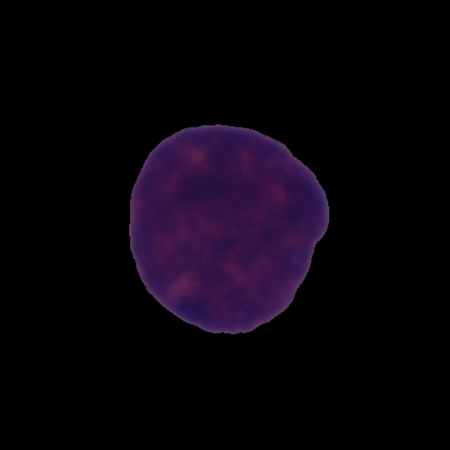ALL: (124, 118, 334, 339)
